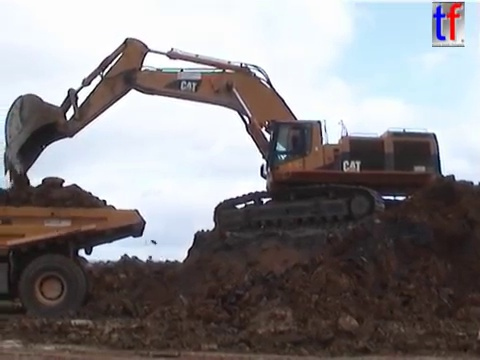excavator: (1, 35, 453, 242)
truck: (1, 201, 150, 324)
